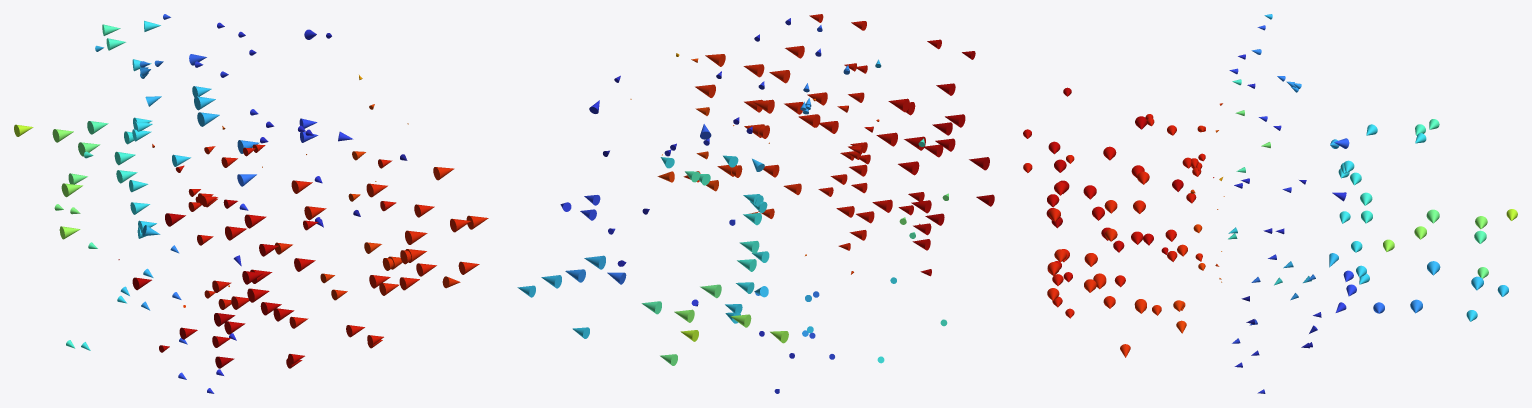
Rendered from LineasCorrienteH2-O2_mh2-6.88_V-0.9.glb.
The picture shows the model from 3 angles, left to right: view 1: azimuth 30°, elevation 25°; view 2: azimuth 150°, elevation 25°; view 3: azimuth 270°, elevation 25°; orthographic projection. The views are drawn at different scales.
Bounding box in the file's own units: 0.000912 × 0.000957 × 0.00123.
Materials: 2 (2 with a texture image).
